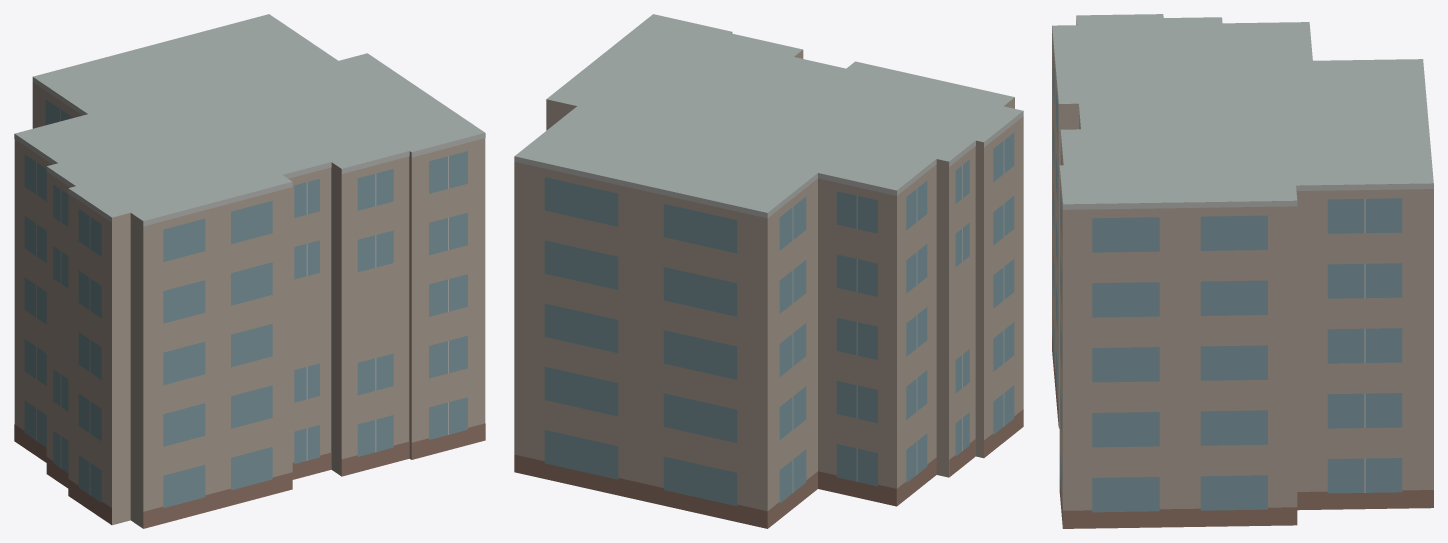
File: survey-upis-32870664.glb
3 renders of one model, left to right at view 1: azimuth 30°, elevation 25°; view 2: azimuth 150°, elevation 25°; view 3: azimuth 270°, elevation 25°, orthographic. The views are drawn at different scales.
Visible parts, largest first — view 1: survey-upis-32870664.tmp; view 2: survey-upis-32870664.tmp; view 3: survey-upis-32870664.tmp.
Boxes of the visible parts, bbox=[...] form: survey-upis-32870664.tmp: bbox=[14, 14, 485, 528]; survey-upis-32870664.tmp: bbox=[514, 14, 1023, 528]; survey-upis-32870664.tmp: bbox=[1052, 14, 1433, 528].
Bounding box in the file's own units: 17.86 × 14.2 × 15.14.
